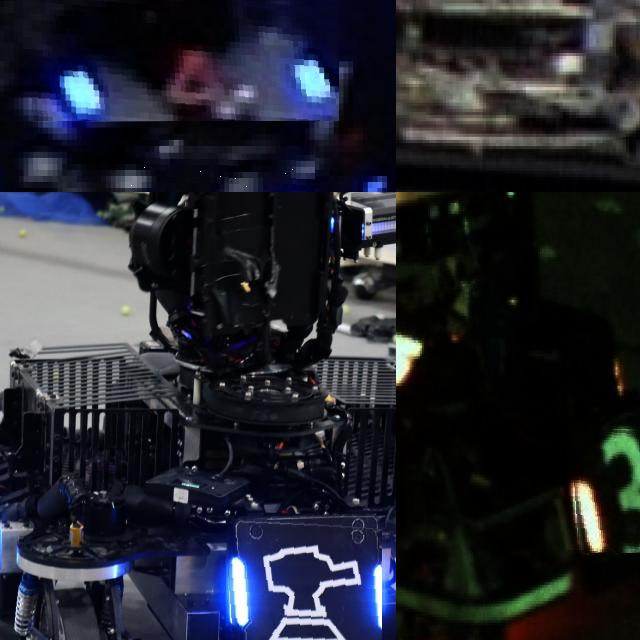B4: (23, 0, 338, 121), (125, 145, 314, 192)
Bs: (226, 515, 384, 640)
R3: (570, 426, 640, 552)
